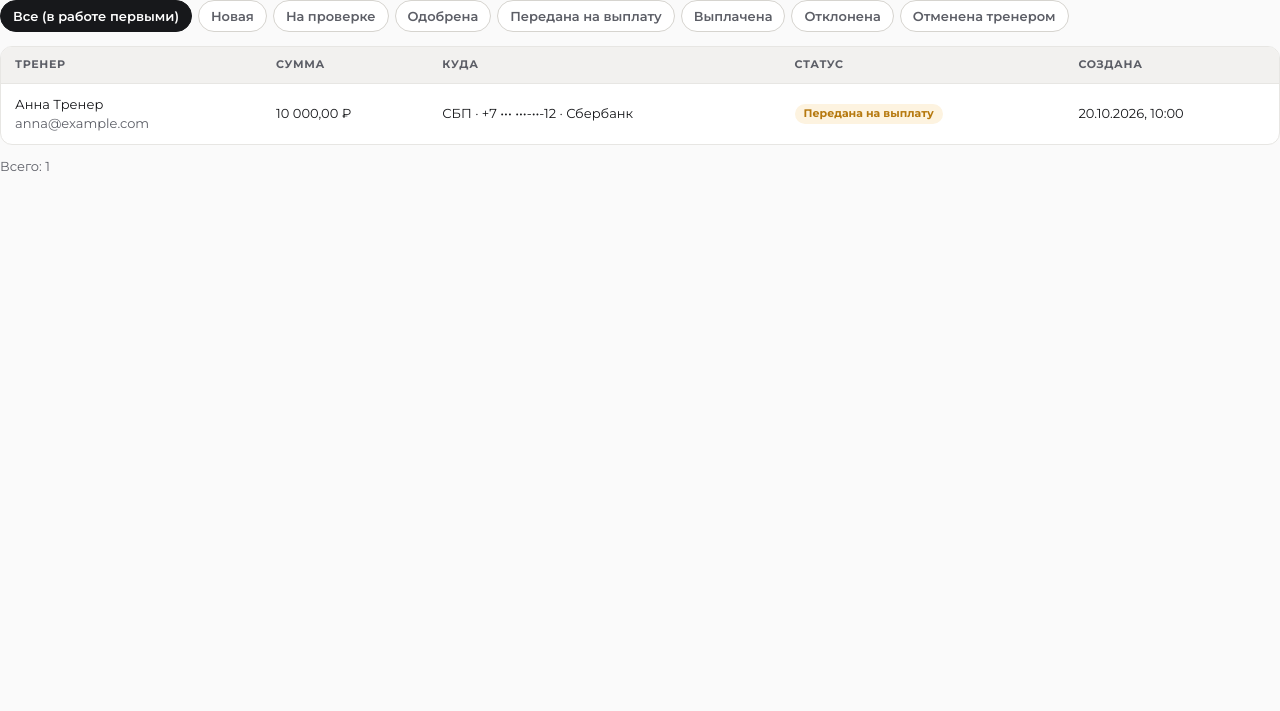
handling a withdrawal request › shows the server's refusal inside the dialog instead of closing it
Click the text "Анна Тренер": point(132, 114) [1,83,262,144]
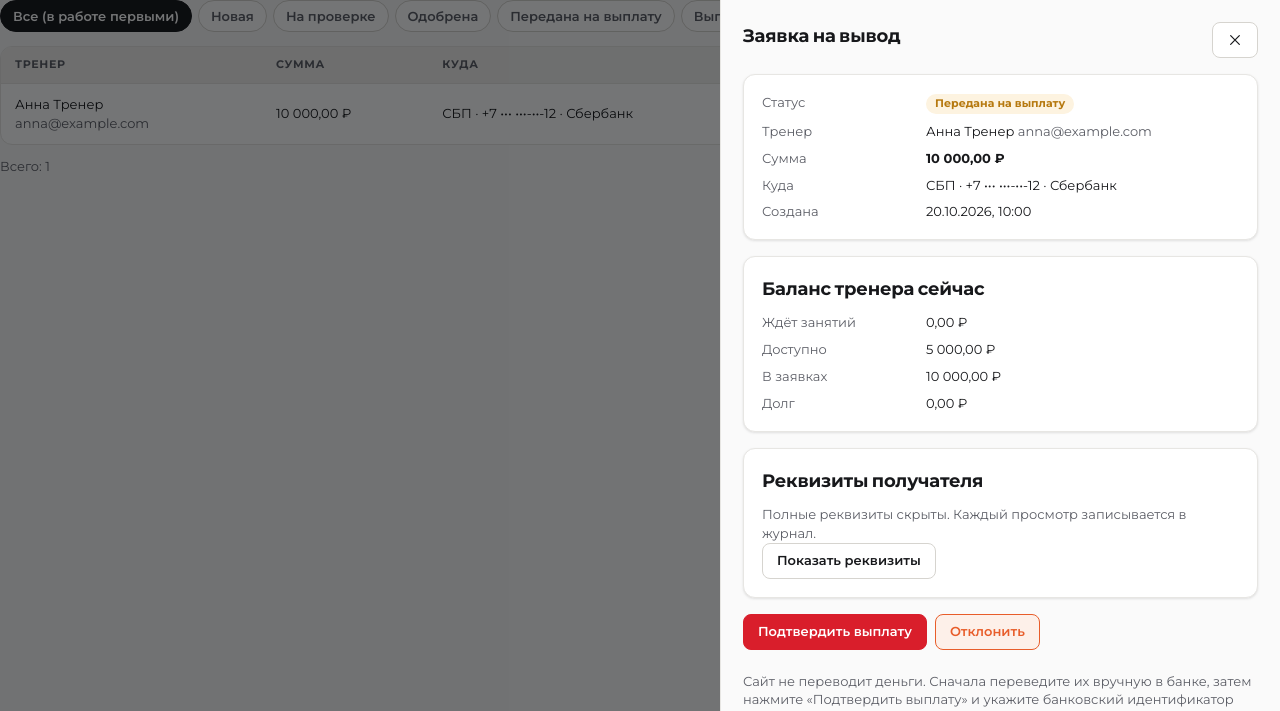
Click the button "Отклонить": point(987, 632) [935,614,1040,650]
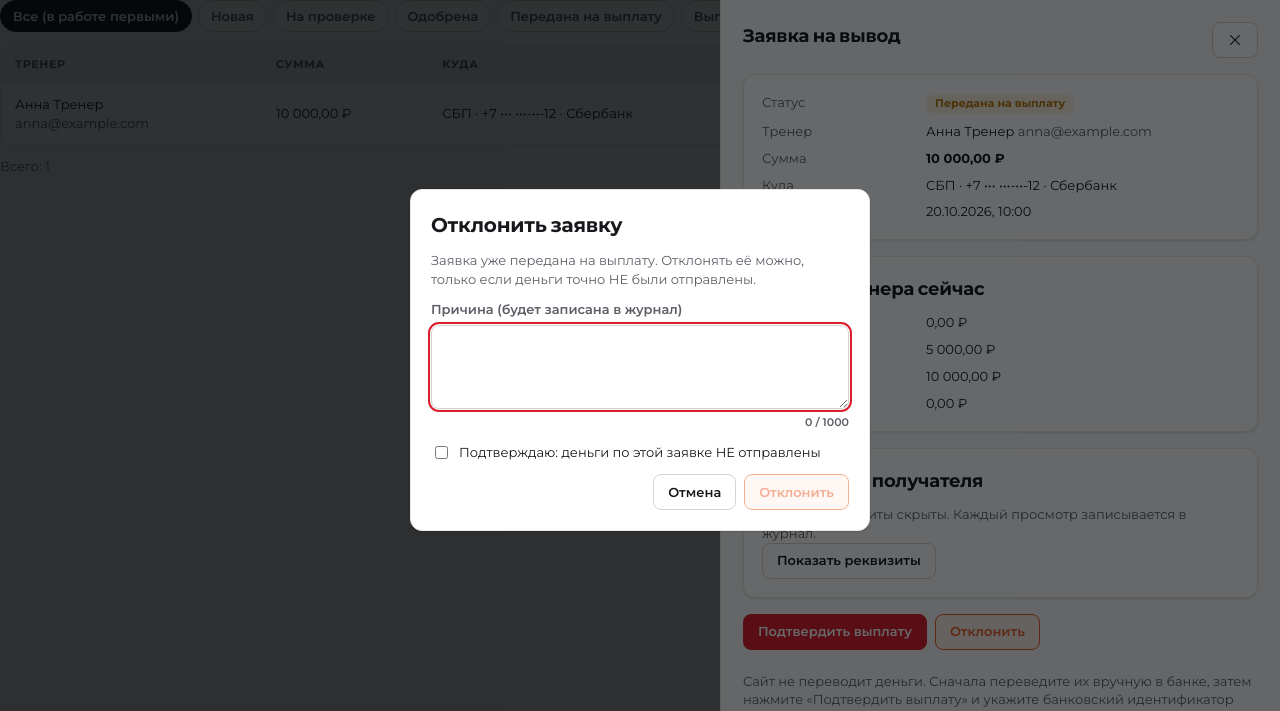
In the text box: point(640, 367) [431,325,849,409], type "причина"
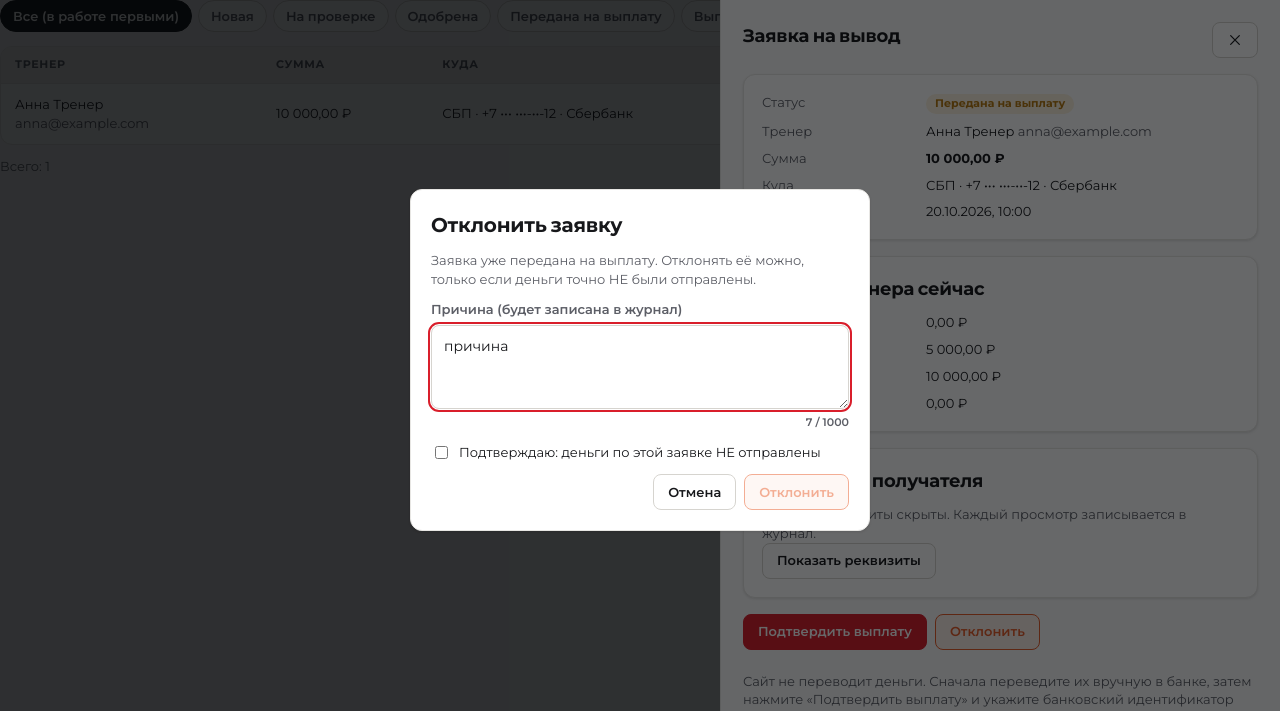
Click the checkbox labelled "Подтверждаю: деньги по этой заявке НЕ отправлены": point(442, 453) [435,446,448,459]
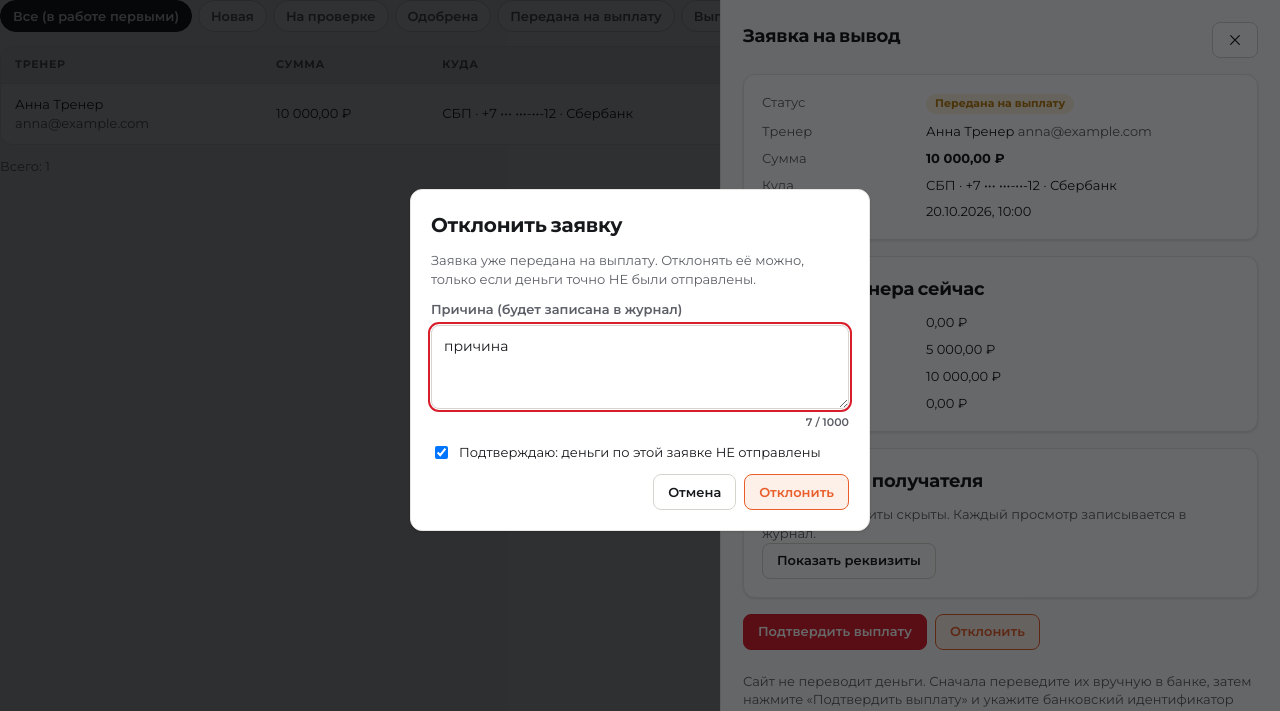
Click the button "Отклонить": point(797, 492) [744,474,849,510]
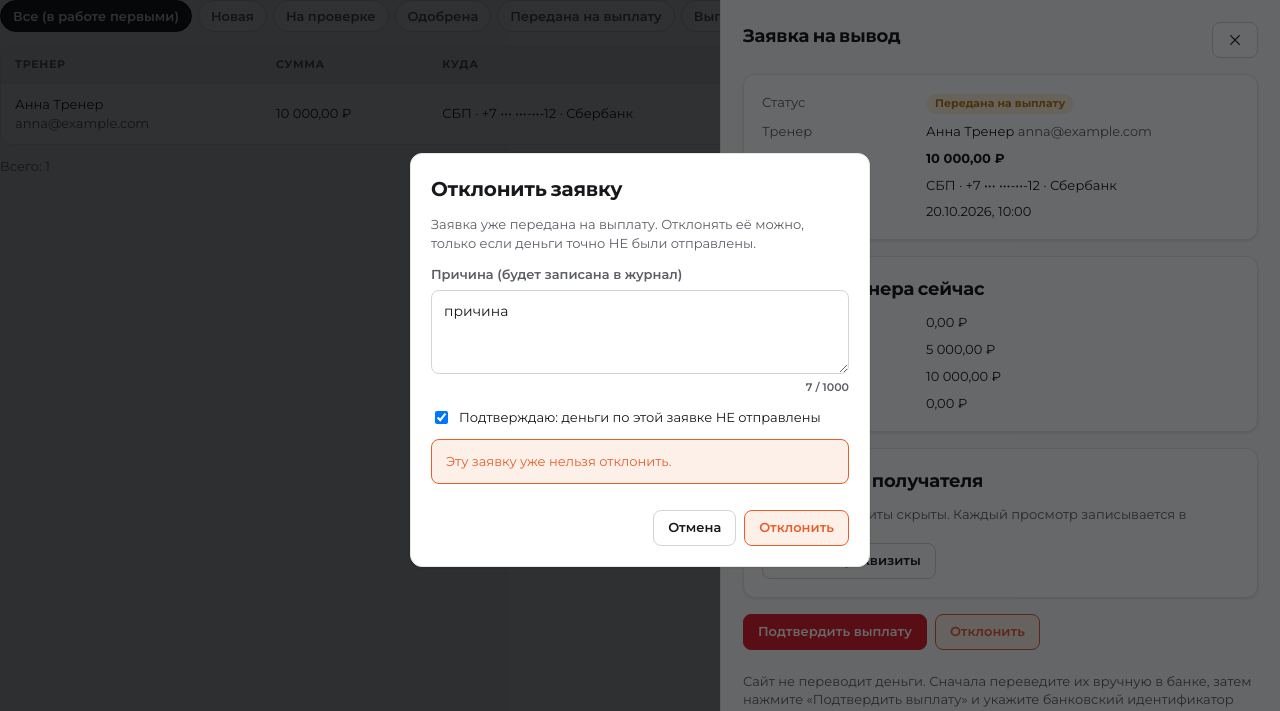
Check: the text "Эту заявку уже нельзя отклонить." is shown, box [431,439,849,484]
